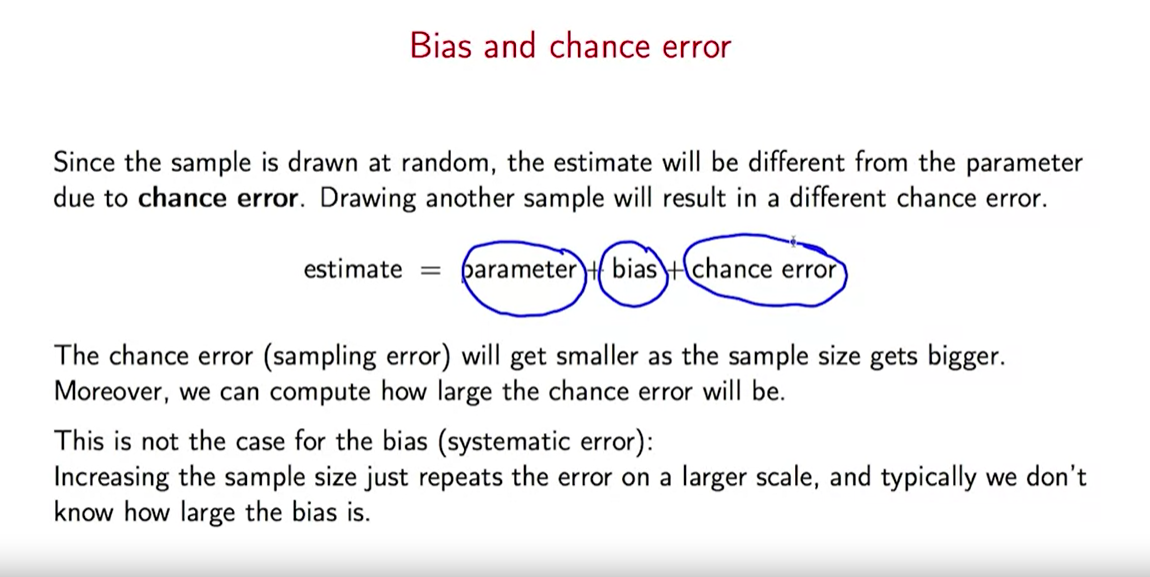equation: (302, 256, 843, 284)
text: (53, 426, 1089, 526), (49, 145, 1083, 210), (50, 339, 1008, 407), (409, 26, 734, 67)
